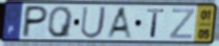A: (105, 6, 135, 41)
P: (19, 5, 51, 40)
Q: (47, 5, 75, 39)
T: (145, 8, 166, 39)
U: (79, 5, 109, 40)
Z: (168, 8, 197, 41)
